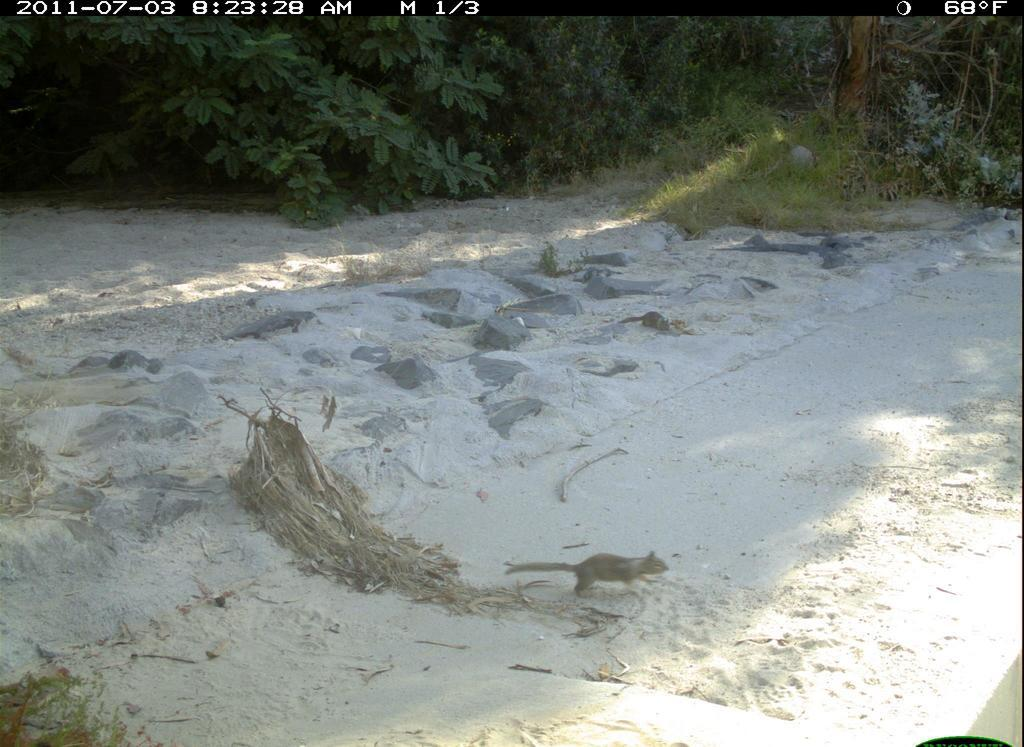squirrel: (505, 546, 680, 623)
